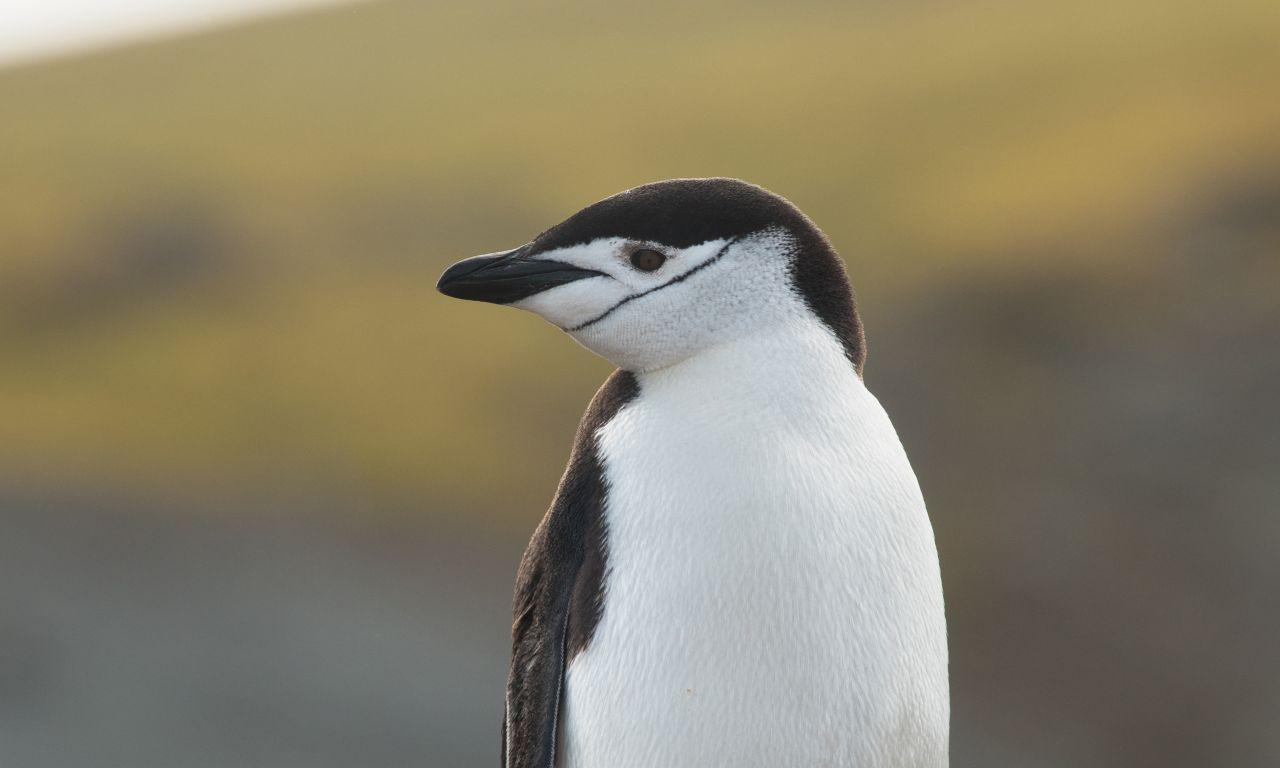Penguin: (438, 178, 950, 765)
